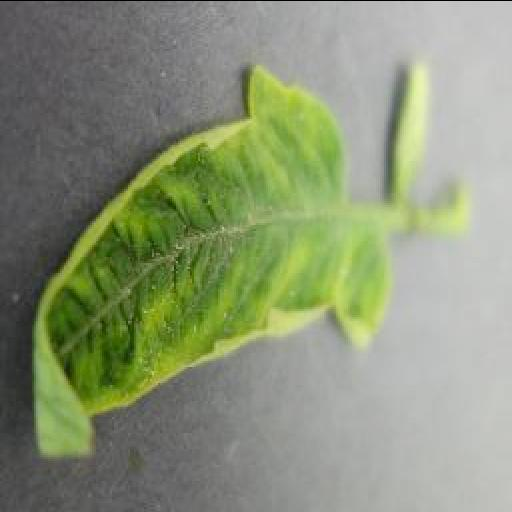disease_tomato: (34, 65, 394, 458)
